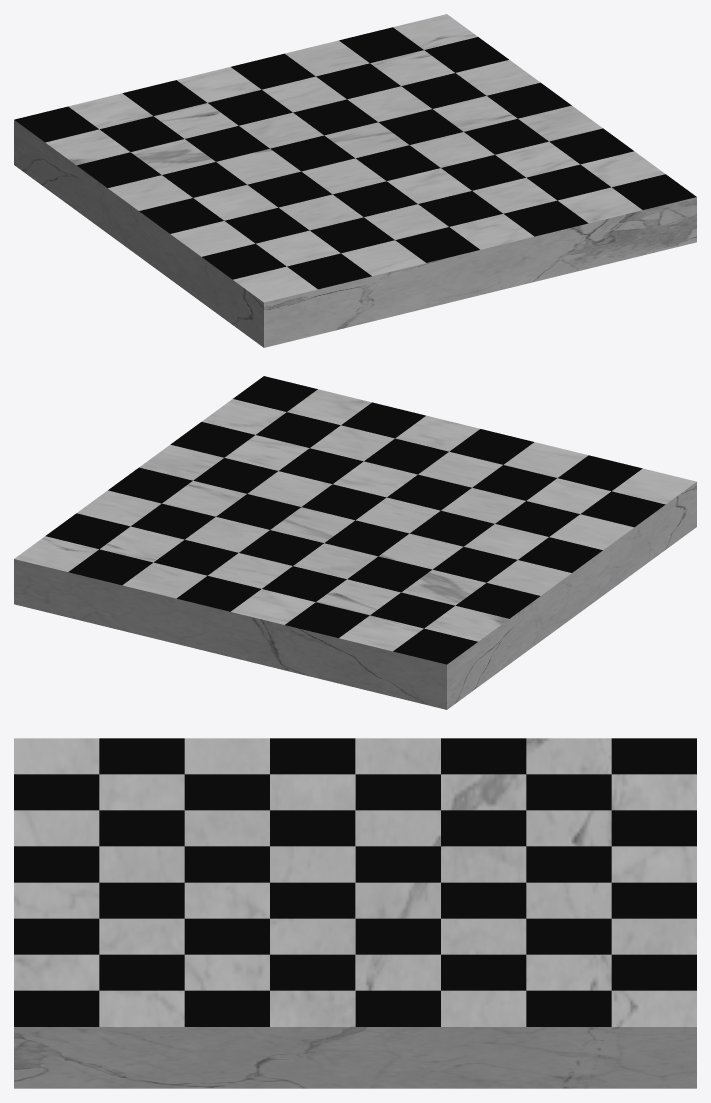
File: plansza.fbx
3 views of the same model, one above another, from view 1: azimuth 30°, elevation 25°; view 2: azimuth 150°, elevation 25°; view 3: azimuth 270°, elevation 25° (orthographic). The views are drawn at different scales.
Parts seen in each view (by area): view 1: Cube; view 2: Cube; view 3: Cube.
Part boxes in pixels (<box>): Cube: <box>14,14,696,347</box>; Cube: <box>14,376,696,709</box>; Cube: <box>14,738,696,1088</box>.
Size of the model in its own units: 20 by 2 by 20.
2 materials, 1 textured.
